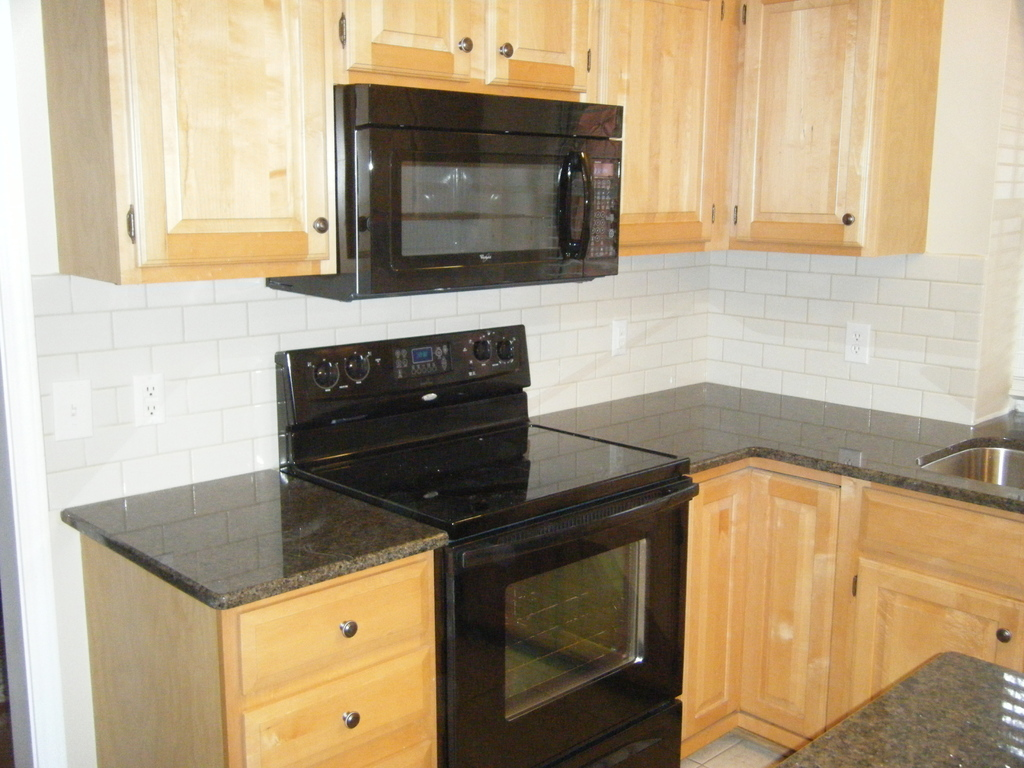cabinet door: (134, 11, 333, 259), (745, 38, 865, 243), (593, 15, 710, 224), (750, 482, 822, 717), (865, 574, 1017, 669), (262, 682, 422, 757), (247, 595, 412, 660), (487, 7, 591, 83), (370, 15, 483, 76)
handle: (339, 612, 364, 639), (991, 626, 1016, 650), (342, 707, 361, 733), (454, 31, 474, 54), (311, 210, 332, 231), (499, 38, 515, 63), (842, 208, 859, 229)
